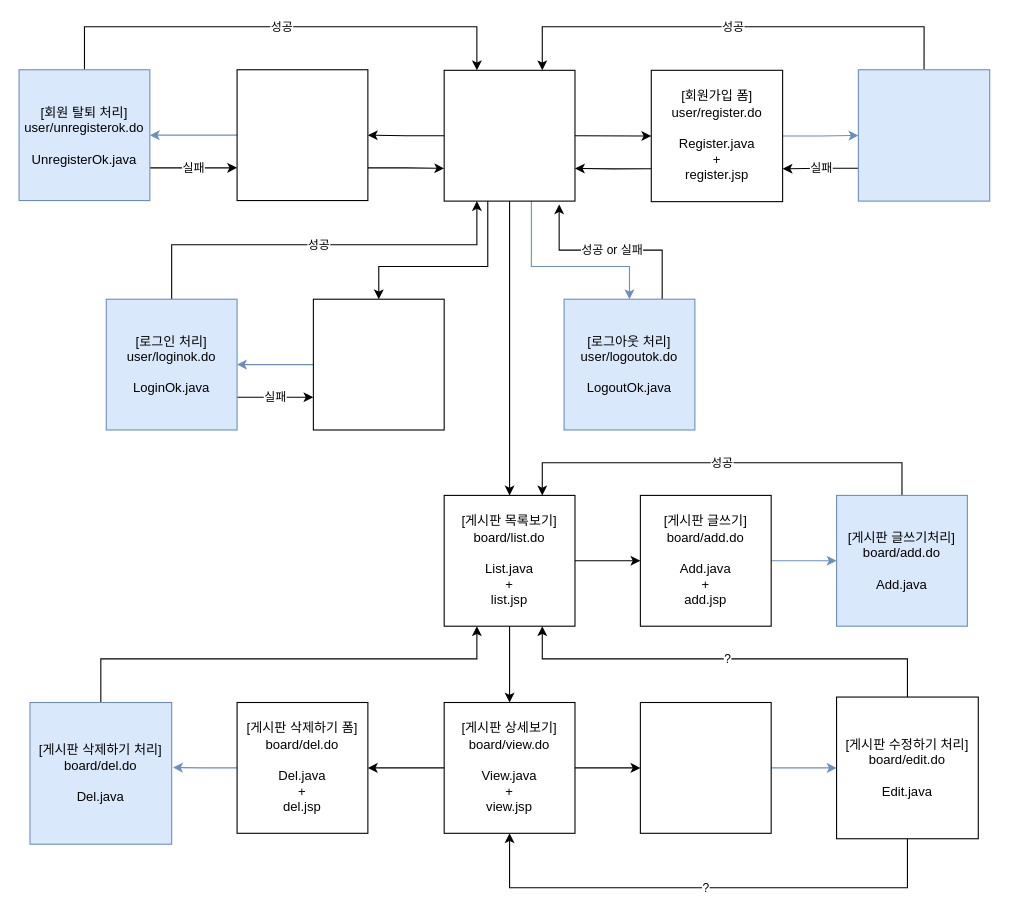
Some shapes in this 1009 by 916 pixel diagram are drawn without their labels. Here are the shapes that lost their labels. From the top down, the centre of each, then its label:
(302,135): [회원 탈퇴] user/unregister.do Unregister.java + unregister.jsp
(509,135): [시작 페이지] (index.do) - 주소값 index.java + index.jsp
(923,135): [회원가입 처리] user/registerok.do RegisterOk.java
(378,364): [로그인 폼] user/login.do Login.java + login.jsp
(705,767): [게시판 수정하기 폼] board/edit.do Edit.java + edit.jsp
